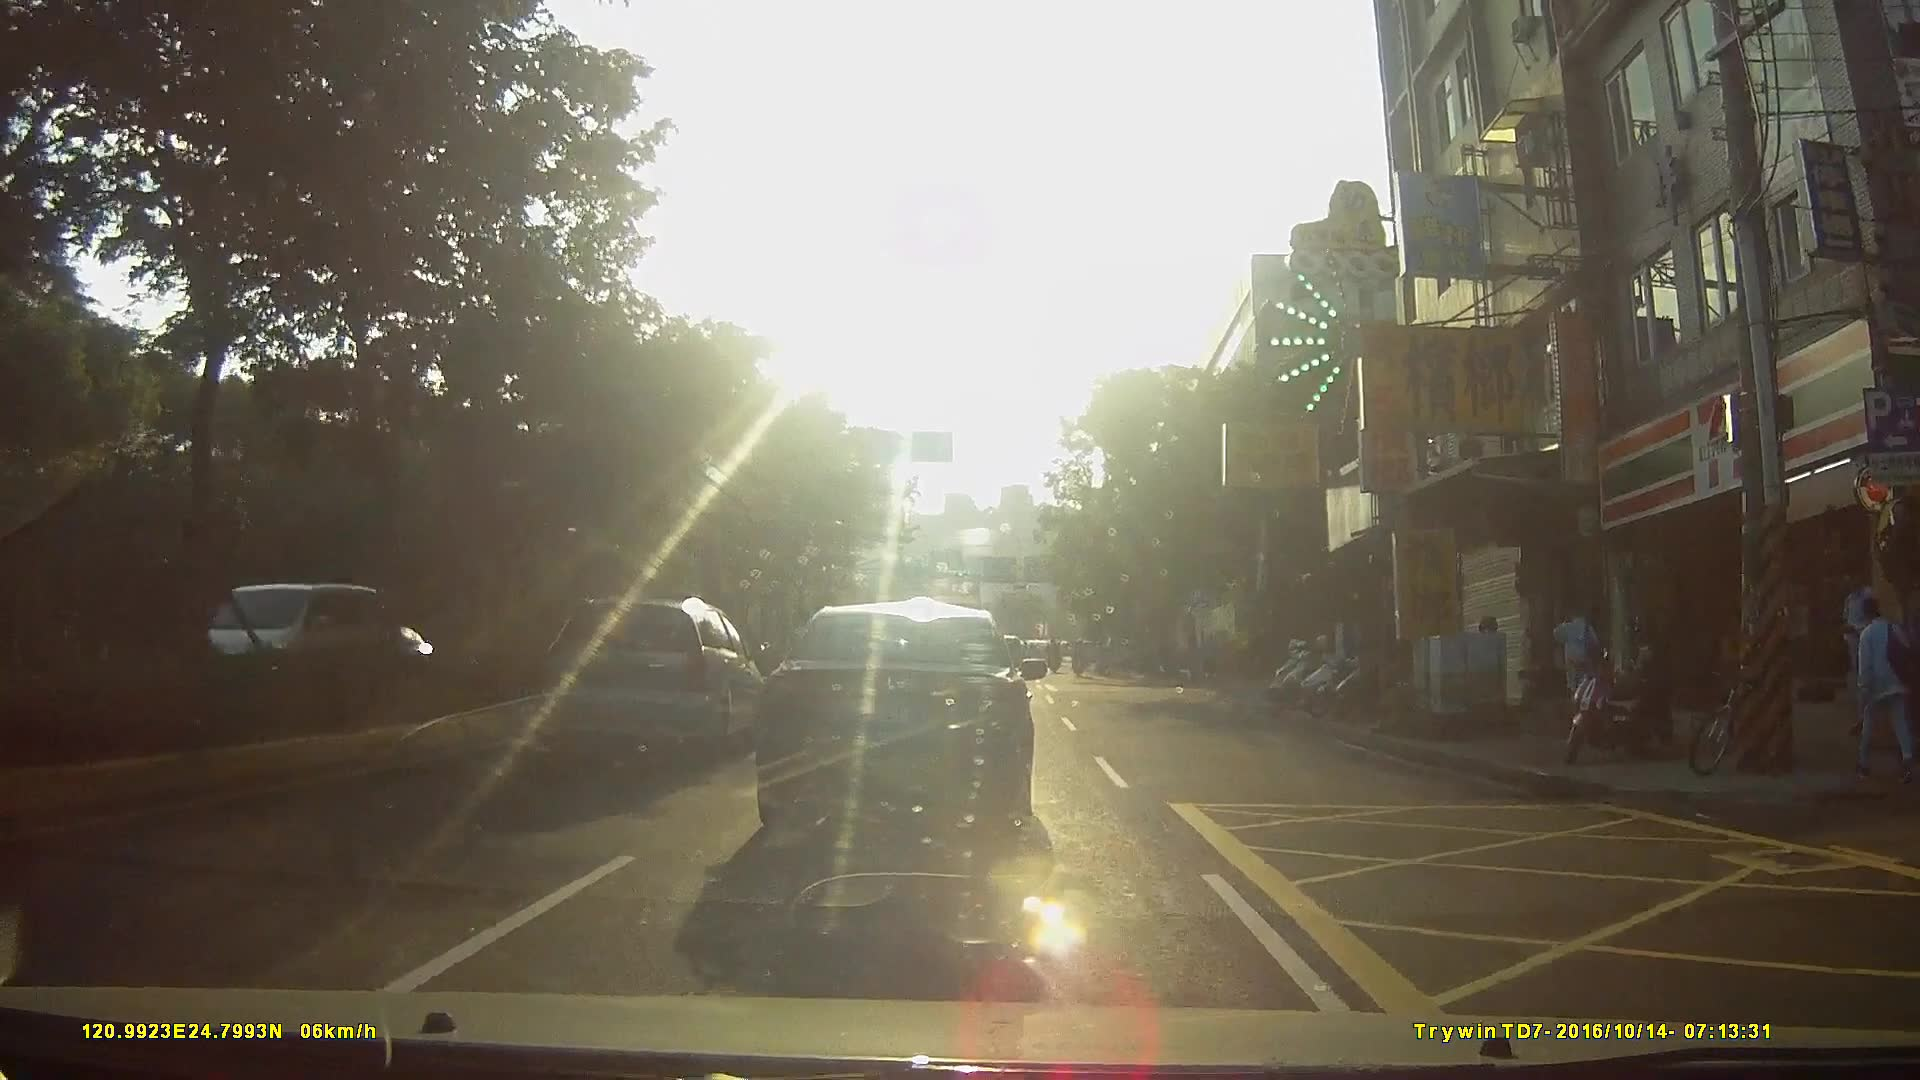pedestrian: (1850, 595, 1920, 780), (1623, 617, 1674, 758), (1548, 601, 1604, 722)
vehicle: (751, 599, 1048, 847), (544, 590, 775, 756), (175, 585, 395, 698)
